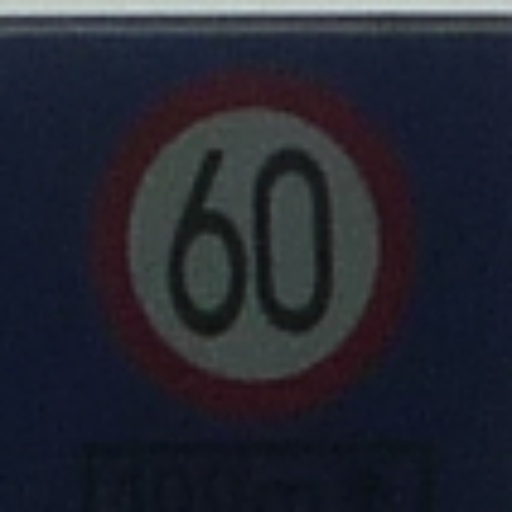Speed limit: (109, 109, 384, 375)
